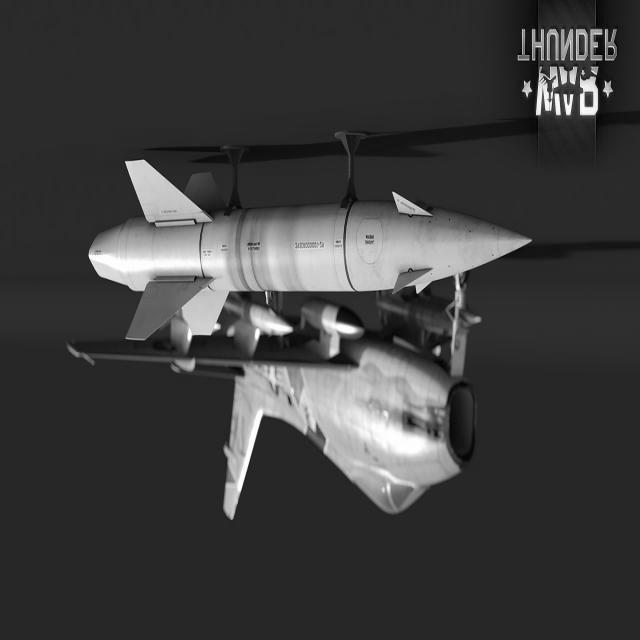Missile: (61, 208, 532, 298)
